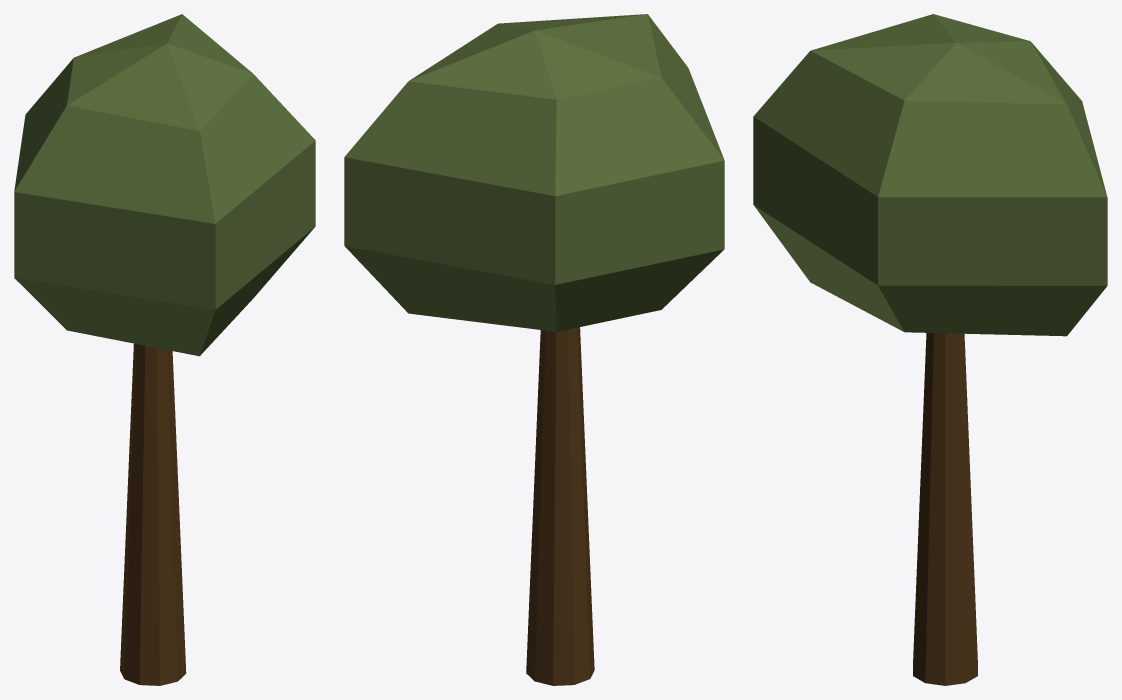
File: Arbolito.fbx
3 renders of one model, left to right at view 1: azimuth 30°, elevation 25°; view 2: azimuth 150°, elevation 25°; view 3: azimuth 270°, elevation 25°, orthographic. The views are drawn at different scales.
Parts seen in each view (by area): view 1: polySurface504; view 2: polySurface504; view 3: polySurface504.
Boxes of the visible parts, x1,y1,x2,y2 form: polySurface504: (14, 14, 315, 685); polySurface504: (344, 14, 724, 685); polySurface504: (753, 14, 1107, 685).
Bounding box in the file's own units: 0.5842 × 1.24 × 0.6222.
